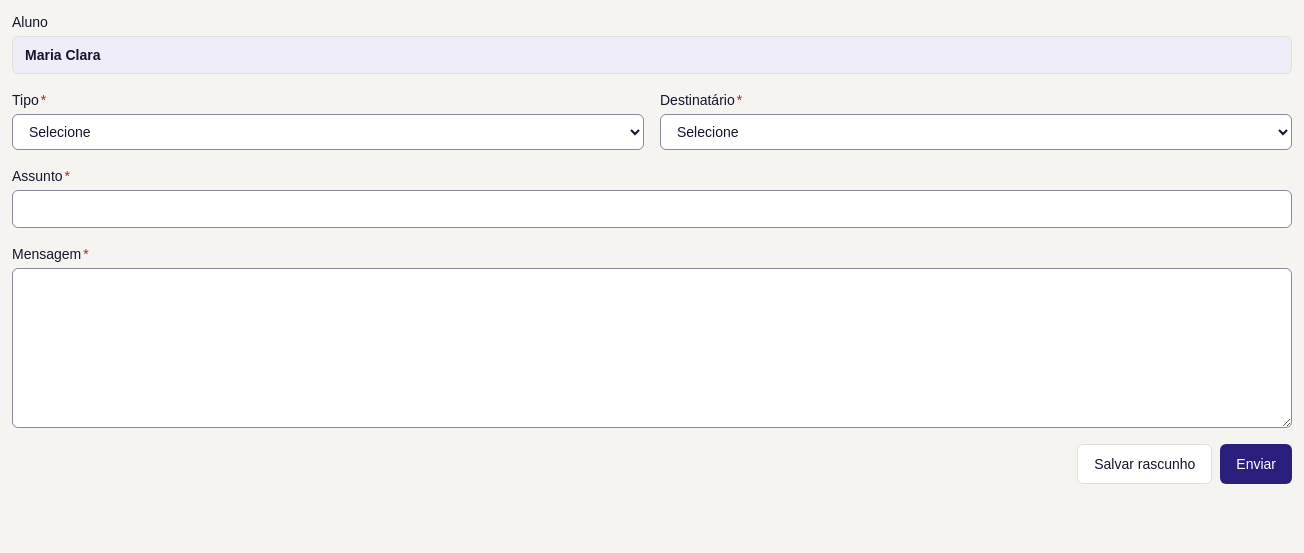
EscreverMensagem › Aviso_de_conteudo_clinico_para_coordenador
The width and height of the screenshot is (1304, 553).
Expected: the text "Não inclua conteúdo clínico em mensagens para a coordenação do curso." is not shown
Select "Rita Coordenadora" in the dropdown labelled "Destinatário*" at {"x": 976, "y": 132}, box [660,114,1292,150]
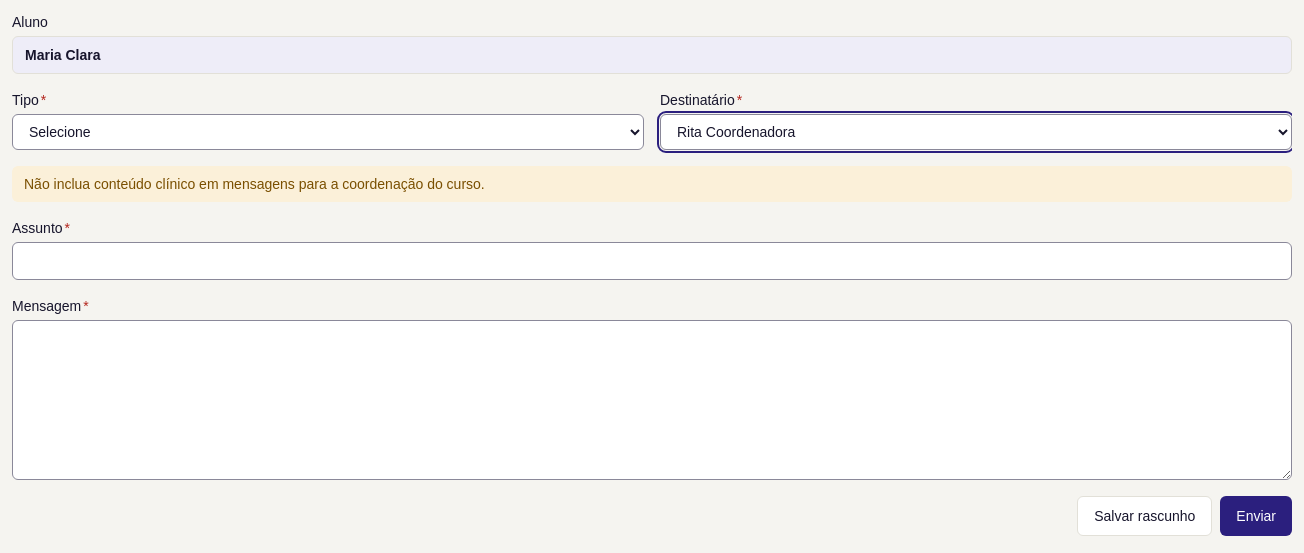
Result: the text "Não inclua conteúdo clínico em mensagens para a coordenação do curso." is shown at [12,166,1292,202]
Select "Carlos Mendes" in the dropdown labelled "Destinatário*" at {"x": 976, "y": 132}, box [660,114,1292,150]
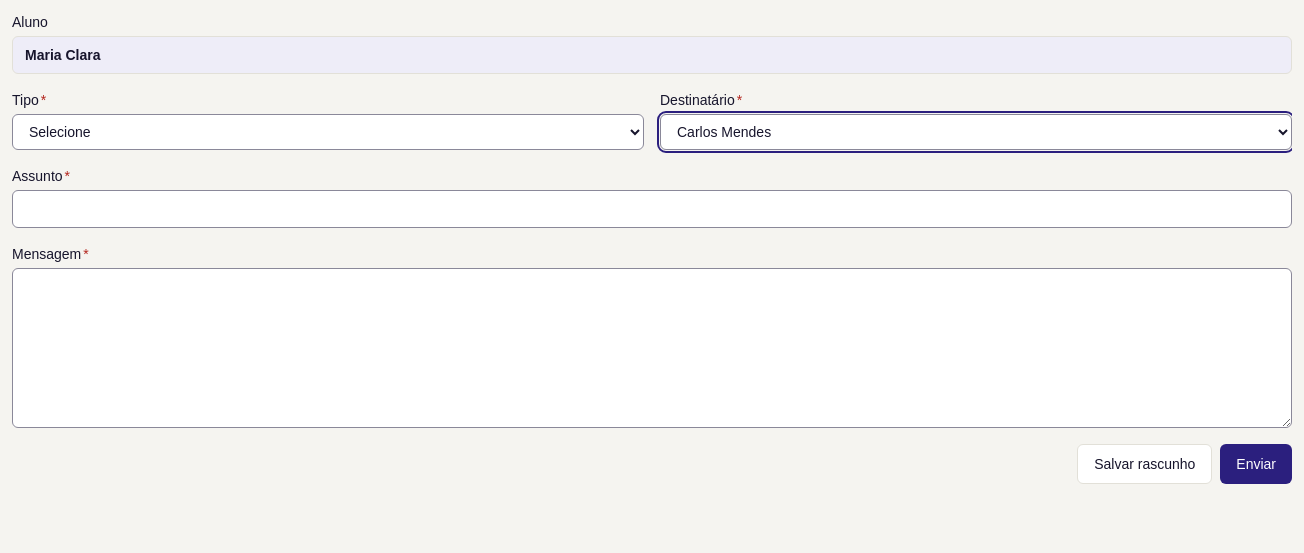
Result: the text "Não inclua conteúdo clínico em mensagens para a coordenação do curso." is gone
